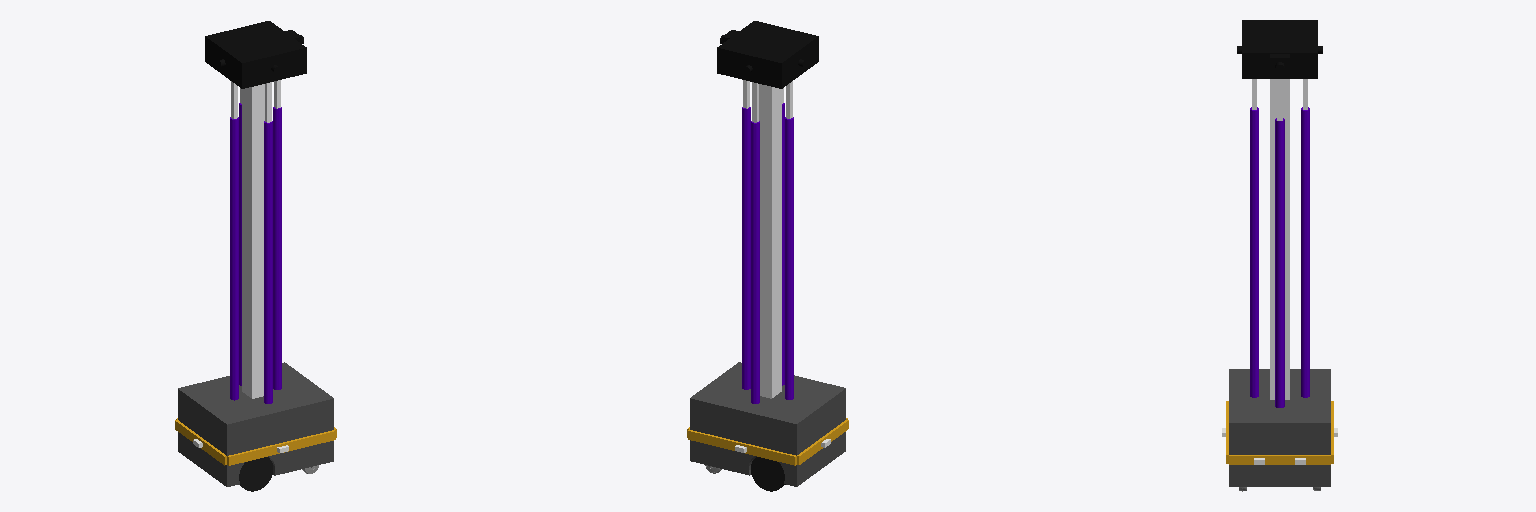
robot.urdf — uvc_robot:
<?xml version='1.0' encoding='utf-8'?>
<robot name="uvc_robot">
  <link name="base_footprint" />
  <link name="base_link">
    <inertial>
      <origin xyz="0.10 0 0.45" />
      <mass value="35" />
      <inertia ixx="9.5" iyy="9.7" izz="1.8" ixy="0" ixz="0" iyz="0" />
    </inertial>
    <collision name="chassis">
      <origin xyz="0.10886 0 0.19315" />
      <geometry>
        <box size="0.50 0.40 0.28" />
      </geometry>
    </collision>
    <collision name="bumpers">
      <origin xyz="0.10886 0 0.17315" />
      <geometry>
        <box size="0.524 0.424 0.04" />
      </geometry>
    </collision>
    <collision name="tower_and_lamps">
      <origin xyz="0.10886 0 1.03" />
      <geometry>
        <box size="0.29 0.29 1.49" />
      </geometry>
    </collision>
    <collision name="sensor_platform">
      <origin xyz="0.124 0 1.84065" />
      <geometry>
        <box size="0.33 0.30 0.115" />
      </geometry>
    </collision>
    <visual name="cad_part_00">
      <geometry>
        <mesh filename="package://uvc_robot_description/meshes/uvc_robot/part_00.stl" />
      </geometry>
      <material name="material_0">
        <color rgba="0.960784 0.960784 0.964706 1" />
      </material>
    </visual>
    <visual name="cad_part_01">
      <geometry>
        <mesh filename="package://uvc_robot_description/meshes/uvc_robot/part_01.stl" />
      </geometry>
      <material name="material_1">
        <color rgba="0.098039 0.098039 0.098039 1" />
      </material>
    </visual>
    <visual name="cad_part_02">
      <geometry>
        <mesh filename="package://uvc_robot_description/meshes/uvc_robot/part_02.stl" />
      </geometry>
      <material name="material_2">
        <color rgba="0.960784 0.960784 0.964706 1" />
      </material>
    </visual>
    <visual name="cad_part_03">
      <geometry>
        <mesh filename="package://uvc_robot_description/meshes/uvc_robot/part_03.stl" />
      </geometry>
      <material name="material_3">
        <color rgba="0.960784 0.960784 0.964706 1" />
      </material>
    </visual>
    <visual name="cad_part_04">
      <geometry>
        <mesh filename="package://uvc_robot_description/meshes/uvc_robot/part_04.stl" />
      </geometry>
      <material name="material_4">
        <color rgba="0.960784 0.960784 0.964706 1" />
      </material>
    </visual>
    <visual name="cad_part_05">
      <geometry>
        <mesh filename="package://uvc_robot_description/meshes/uvc_robot/part_05.stl" />
      </geometry>
      <material name="material_5">
        <color rgba="0.960784 0.960784 0.964706 1" />
      </material>
    </visual>
    <visual name="cad_part_06">
      <geometry>
        <mesh filename="package://uvc_robot_description/meshes/uvc_robot/part_06.stl" />
      </geometry>
      <material name="material_6">
        <color rgba="0.796078 0.796078 0.796078 1" />
      </material>
    </visual>
    <visual name="cad_part_07">
      <geometry>
        <mesh filename="package://uvc_robot_description/meshes/uvc_robot/part_07.stl" />
      </geometry>
      <material name="material_7">
        <color rgba="0.796078 0.796078 0.796078 1" />
      </material>
    </visual>
    <visual name="cad_part_08">
      <geometry>
        <mesh filename="package://uvc_robot_description/meshes/uvc_robot/part_08.stl" />
      </geometry>
      <material name="material_8">
        <color rgba="0.796078 0.796078 0.796078 1" />
      </material>
    </visual>
    <visual name="cad_part_09">
      <geometry>
        <mesh filename="package://uvc_robot_description/meshes/uvc_robot/part_09.stl" />
      </geometry>
      <material name="material_9">
        <color rgba="0.796078 0.796078 0.796078 1" />
      </material>
    </visual>
    <visual name="cad_part_10">
      <geometry>
        <mesh filename="package://uvc_robot_description/meshes/uvc_robot/part_10.stl" />
      </geometry>
      <material name="material_10">
        <color rgba="0.098039 0.098039 0.098039 1" />
      </material>
    </visual>
    <visual name="cad_part_11">
      <geometry>
        <mesh filename="package://uvc_robot_description/meshes/uvc_robot/part_11.stl" />
      </geometry>
      <material name="material_11">
        <color rgba="0.098039 0.098039 0.098039 1" />
      </material>
    </visual>
    <visual name="cad_part_12">
      <geometry>
        <mesh filename="package://uvc_robot_description/meshes/uvc_robot/part_12.stl" />
      </geometry>
      <material name="material_12">
        <color rgba="0.909804 0.678431 0.137255 1" />
      </material>
    </visual>
    <visual name="cad_part_13">
      <geometry>
        <mesh filename="package://uvc_robot_description/meshes/uvc_robot/part_13.stl" />
      </geometry>
      <material name="material_13">
        <color rgba="0.909804 0.678431 0.137255 1" />
      </material>
    </visual>
    <visual name="cad_part_14">
      <geometry>
        <mesh filename="package://uvc_robot_description/meshes/uvc_robot/part_14.stl" />
      </geometry>
      <material name="material_14">
        <color rgba="0.909804 0.678431 0.137255 1" />
      </material>
    </visual>
    <visual name="cad_part_15">
      <geometry>
        <mesh filename="package://uvc_robot_description/meshes/uvc_robot/part_15.stl" />
      </geometry>
      <material name="material_15">
        <color rgba="0.909804 0.678431 0.137255 1" />
      </material>
    </visual>
    <visual name="cad_part_17">
      <geometry>
        <mesh filename="package://uvc_robot_description/meshes/uvc_robot/part_17.stl" />
      </geometry>
      <material name="material_17">
        <color rgba="0.349020 0.349020 0.349020 1" />
      </material>
    </visual>
    <visual name="cad_part_19">
      <geometry>
        <mesh filename="package://uvc_robot_description/meshes/uvc_robot/part_19.stl" />
      </geometry>
      <material name="material_19">
        <color rgba="0.098039 0.098039 0.098039 1" />
      </material>
    </visual>
    <visual name="cad_part_20">
      <geometry>
        <mesh filename="package://uvc_robot_description/meshes/uvc_robot/part_20.stl" />
      </geometry>
      <material name="material_20">
        <color rgba="0.098039 0.098039 0.098039 1" />
      </material>
    </visual>
    <visual name="cad_part_21">
      <geometry>
        <mesh filename="package://uvc_robot_description/meshes/uvc_robot/part_21.stl" />
      </geometry>
      <material name="material_21">
        <color rgba="0.098039 0.098039 0.098039 1" />
      </material>
    </visual>
    <visual name="cad_part_22">
      <geometry>
        <mesh filename="package://uvc_robot_description/meshes/uvc_robot/part_22.stl" />
      </geometry>
      <material name="material_22">
        <color rgba="0.392157 0.000000 0.784314 1" />
      </material>
    </visual>
    <visual name="cad_part_23">
      <geometry>
        <mesh filename="package://uvc_robot_description/meshes/uvc_robot/part_23.stl" />
      </geometry>
      <material name="material_23">
        <color rgba="0.392157 0.000000 0.784314 1" />
      </material>
    </visual>
    <visual name="cad_part_24">
      <geometry>
        <mesh filename="package://uvc_robot_description/meshes/uvc_robot/part_24.stl" />
      </geometry>
      <material name="material_24">
        <color rgba="0.392157 0.000000 0.784314 1" />
      </material>
    </visual>
    <visual name="cad_part_25">
      <geometry>
        <mesh filename="package://uvc_robot_description/meshes/uvc_robot/part_25.stl" />
      </geometry>
      <material name="material_25">
        <color rgba="0.392157 0.000000 0.784314 1" />
      </material>
    </visual>
    <visual name="cad_part_26">
      <geometry>
        <mesh filename="package://uvc_robot_description/meshes/uvc_robot/part_26.stl" />
      </geometry>
      <material name="material_26">
        <color rgba="0.964706 0.964706 0.952941 1" />
      </material>
    </visual>
    <visual name="cad_part_27">
      <geometry>
        <mesh filename="package://uvc_robot_description/meshes/uvc_robot/part_27.stl" />
      </geometry>
      <material name="material_27">
        <color rgba="0.964706 0.964706 0.952941 1" />
      </material>
    </visual>
    <visual name="cad_part_28">
      <geometry>
        <mesh filename="package://uvc_robot_description/meshes/uvc_robot/part_28.stl" />
      </geometry>
      <material name="material_28">
        <color rgba="0.964706 0.964706 0.952941 1" />
      </material>
    </visual>
    <visual name="cad_part_29">
      <geometry>
        <mesh filename="package://uvc_robot_description/meshes/uvc_robot/part_29.stl" />
      </geometry>
      <material name="material_29">
        <color rgba="0.964706 0.964706 0.952941 1" />
      </material>
    </visual>
    <visual name="cad_part_30">
      <geometry>
        <mesh filename="package://uvc_robot_description/meshes/uvc_robot/part_30.stl" />
      </geometry>
      <material name="material_30">
        <color rgba="0.964706 0.964706 0.952941 1" />
      </material>
    </visual>
    <visual name="cad_part_31">
      <geometry>
        <mesh filename="package://uvc_robot_description/meshes/uvc_robot/part_31.stl" />
      </geometry>
      <material name="material_31">
        <color rgba="0.627451 0.627451 0.627451 1" />
      </material>
    </visual>
    <visual name="cad_part_32">
      <geometry>
        <mesh filename="package://uvc_robot_description/meshes/uvc_robot/part_32.stl" />
      </geometry>
      <material name="material_32">
        <color rgba="0.627451 0.627451 0.627451 1" />
      </material>
    </visual>
    <visual name="cad_part_33">
      <geometry>
        <mesh filename="package://uvc_robot_description/meshes/uvc_robot/part_33.stl" />
      </geometry>
      <material name="material_33">
        <color rgba="0.627451 0.627451 0.627451 1" />
      </material>
    </visual>
    <visual name="cad_part_34">
      <geometry>
        <mesh filename="package://uvc_robot_description/meshes/uvc_robot/part_34.stl" />
      </geometry>
      <material name="material_34">
        <color rgba="0.627451 0.627451 0.627451 1" />
      </material>
    </visual>
  </link>
  <joint name="base_joint" type="fixed">
    <parent link="base_footprint" />
    <child link="base_link" />
  </joint>
  <link name="left_wheel_link">
    <inertial>
      <origin xyz="0 0 0" />
      <mass value="1" />
      <inertia ixx="0.0019" iyy="0.0032" izz="0.0019" ixy="0" ixz="0" iyz="0" />
    </inertial>
    <collision>
      <origin rpy="1.57079632679 0 0" />
      <geometry>
        <cylinder radius=".08" length=".0613" />
      </geometry>
    </collision>
    <visual name="cad_part_18">
      <geometry>
        <mesh filename="package://uvc_robot_description/meshes/uvc_robot/part_18.stl" />
      </geometry>
      <material name="material_18">
        <color rgba="0.152941 0.152941 0.152941 1" />
      </material>
    </visual>
  </link>
  <joint name="left_wheel_joint" type="continuous">
    <parent link="base_link" />
    <child link="left_wheel_link" />
    <origin xyz="0 0.16022 .08" />
    <axis xyz="0 1 0" />
    <limit effort="25" velocity="10" />
  </joint>
  <gazebo reference="left_wheel_link">
    <mu1>1.0</mu1>
    <mu2>1.0</mu2>
  </gazebo>
  <link name="right_wheel_link">
    <inertial>
      <origin xyz="0 0 0" />
      <mass value="1" />
      <inertia ixx="0.0019" iyy="0.0032" izz="0.0019" ixy="0" ixz="0" iyz="0" />
    </inertial>
    <collision>
      <origin rpy="1.57079632679 0 0" />
      <geometry>
        <cylinder radius=".08" length=".0613" />
      </geometry>
    </collision>
    <visual name="cad_part_16">
      <geometry>
        <mesh filename="package://uvc_robot_description/meshes/uvc_robot/part_16.stl" />
      </geometry>
      <material name="material_16">
        <color rgba="0.152941 0.152941 0.152941 1" />
      </material>
    </visual>
  </link>
  <joint name="right_wheel_joint" type="continuous">
    <parent link="base_link" />
    <child link="right_wheel_link" />
    <origin xyz="0 -0.16022 .08" />
    <axis xyz="0 1 0" />
    <limit effort="25" velocity="10" />
  </joint>
  <gazebo reference="right_wheel_link">
    <mu1>1.0</mu1>
    <mu2>1.0</mu2>
  </gazebo>
  <link name="left_caster_link">
    <inertial>
      <origin xyz="0 0 0" />
      <mass value="0.2" />
      <inertia ixx="0.0001" iyy="0.0001" izz="0.0001" ixy="0" ixz="0" iyz="0" />
    </inertial>
    <collision>
      <geometry>
        <sphere radius=".03725" />
      </geometry>
    </collision>
  </link>
  <joint name="left_caster_joint" type="fixed">
    <parent link="base_link" />
    <child link="left_caster_link" />
    <origin xyz=".274 0.15 .03725" />
  </joint>
  <gazebo reference="left_caster_joint">
    <preserveFixedJoint>true</preserveFixedJoint>
  </gazebo>
  <gazebo reference="left_caster_link">
    <mu1>0.01</mu1>
    <mu2>0.01</mu2>
  </gazebo>
  <link name="right_caster_link">
    <inertial>
      <origin xyz="0 0 0" />
      <mass value="0.2" />
      <inertia ixx="0.0001" iyy="0.0001" izz="0.0001" ixy="0" ixz="0" iyz="0" />
    </inertial>
    <collision>
      <geometry>
        <sphere radius=".03725" />
      </geometry>
    </collision>
  </link>
  <joint name="right_caster_joint" type="fixed">
    <parent link="base_link" />
    <child link="right_caster_link" />
    <origin xyz=".274 -0.15 .03725" />
  </joint>
  <gazebo reference="right_caster_joint">
    <preserveFixedJoint>true</preserveFixedJoint>
  </gazebo>
  <gazebo reference="right_caster_link">
    <mu1>0.01</mu1>
    <mu2>0.01</mu2>
  </gazebo>
  <link name="laser_frame">
    <inertial>
      <origin xyz="0 0 0" />
      <mass value="0.01" />
      <inertia ixx="1e-05" iyy="1e-05" izz="1e-05" ixy="0" ixz="0" iyz="0" />
    </inertial>
  </link>
  <joint name="laser_frame_joint" type="fixed">
    <parent link="base_link" />
    <child link="laser_frame" />
    <origin xyz=".39 0 .34" />
  </joint>
  <link name="imu_link">
    <inertial>
      <origin xyz="0 0 0" />
      <mass value="0.01" />
      <inertia ixx="1e-05" iyy="1e-05" izz="1e-05" ixy="0" ixz="0" iyz="0" />
    </inertial>
  </link>
  <joint name="imu_link_joint" type="fixed">
    <parent link="base_link" />
    <child link="imu_link" />
    <origin xyz=".10 0 .20" />
  </joint>
  <gazebo reference="laser_frame">
    <sensor name="uvc_lidar" type="gpu_lidar">
      <topic>/scan</topic>
      <gz_frame_id>laser_frame</gz_frame_id>
      <update_rate>10</update_rate>
      <always_on>true</always_on>
      <ray>
        <scan>
          <horizontal>
            <samples>720</samples>
            <resolution>1</resolution>
            <min_angle>-3.14159265</min_angle>
            <max_angle>3.14159265</max_angle>
          </horizontal>
        </scan>
        <range>
          <min>.12</min>
          <max>20</max>
          <resolution>.01</resolution>
        </range>
      </ray>
    </sensor>
  </gazebo>
  <gazebo reference="imu_link">
    <sensor name="uvc_imu" type="imu">
      <topic>/imu/data</topic>
      <gz_frame_id>imu_link</gz_frame_id>
      <update_rate>50</update_rate>
      <always_on>true</always_on>
    </sensor>
  </gazebo>
  <gazebo>
    <plugin filename="gz-sim-diff-drive-system" name="gz::sim::systems::DiffDrive">
      <left_joint>left_wheel_joint</left_joint>
      <right_joint>right_wheel_joint</right_joint>
      <wheel_separation>.32044</wheel_separation>
      <wheel_radius>.08</wheel_radius>
      <topic>/cmd_vel</topic>
      <odom_topic>/odom</odom_topic>
      <tf_topic>/tf</tf_topic>
      <frame_id>odom</frame_id>
      <child_frame_id>base_footprint</child_frame_id>
      <odom_publish_frequency>30</odom_publish_frequency>
      <max_linear_velocity>.3</max_linear_velocity>
      <max_angular_velocity>1</max_angular_velocity>
      <max_linear_acceleration>.5</max_linear_acceleration>
    </plugin>
    <plugin filename="gz-sim-joint-state-publisher-system" name="gz::sim::systems::JointStatePublisher">
      <topic>/joint_states</topic>
      <joint_name>left_wheel_joint</joint_name>
      <joint_name>right_wheel_joint</joint_name>
    </plugin>
  </gazebo>
</robot>

--- Render facts (derived) ---
3 views of the same robot in one strip: view 1: azimuth 30°, elevation 25°; view 2: azimuth 150°, elevation 25°; view 3: azimuth 270°, elevation 25° (orthographic).
Robot: uvc_robot — 8 links, 7 joints (2 continuous, 5 fixed); root link base_footprint; default pose: every joint at zero.
Visible links, largest first — view 1: base_link, right_wheel_link; view 2: base_link, left_wheel_link; view 3: base_link.
Boxes of the visible links, x1,y1,x2,y2 form: base_link: (175, 21, 336, 486); right_wheel_link: (239, 457, 272, 491); base_link: (687, 21, 848, 486); left_wheel_link: (751, 457, 785, 491); base_link: (1222, 20, 1337, 491).
Bounding box of the posed robot: 0.56 × 0.46 × 1.9 m (x, y, z).
Meshes: 35 distinct files referenced, 35 mesh visuals loaded (35 binary STL).
